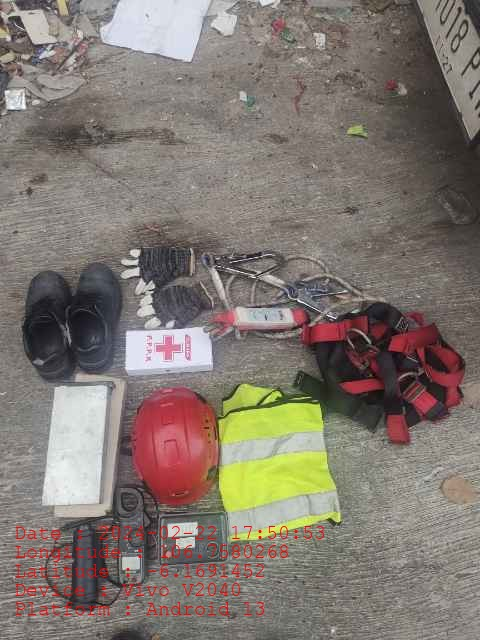HELM: (134, 389, 214, 501)
SARUNG TANGAN: (123, 245, 195, 286)
